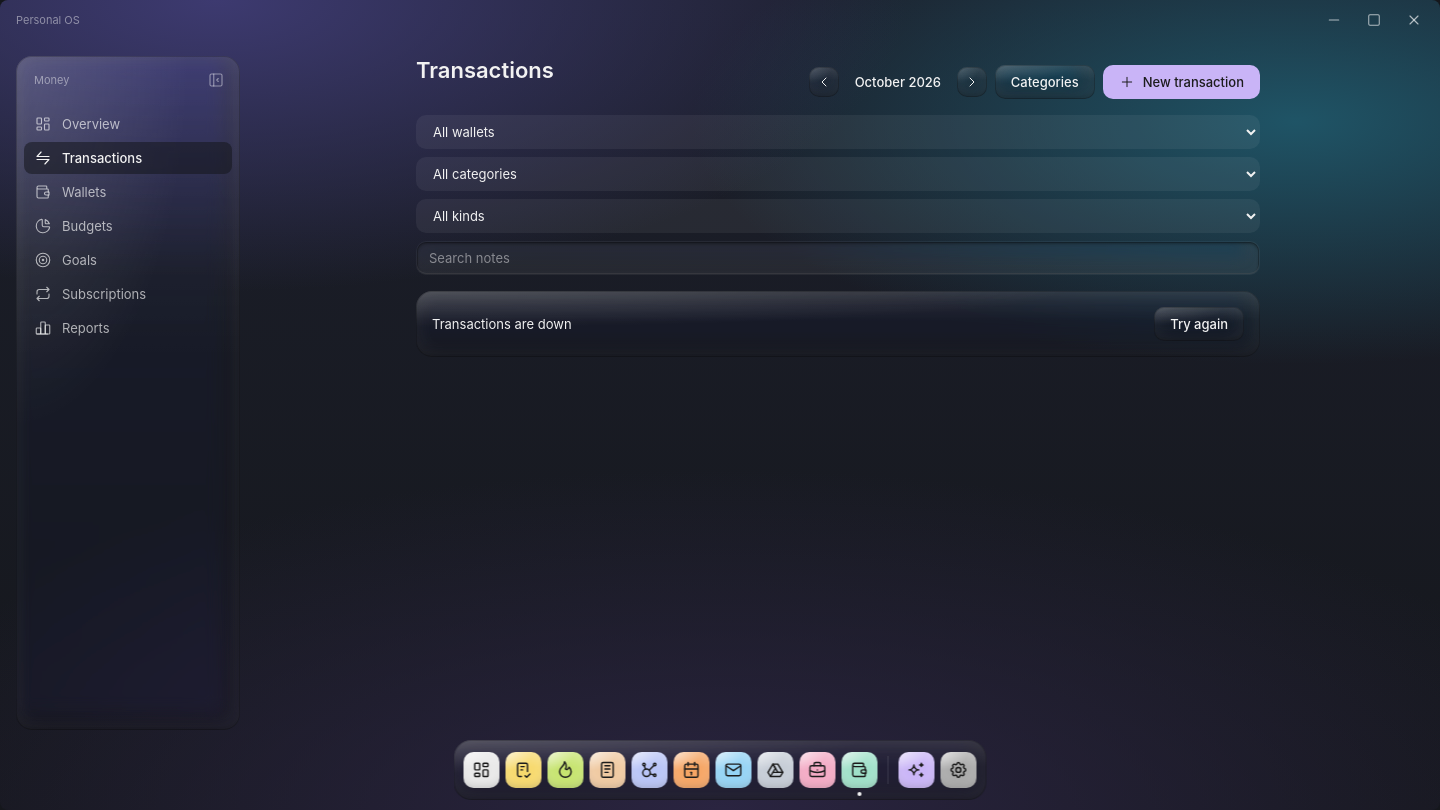
Test: Transactions list › shows the error with Try again
This screenshot has width=1440, height=810.
Expected: the message shows "Transactions are down", [432, 316, 572, 332]
Click the button "Try again".
click(1199, 324)  # box [1154, 307, 1244, 341]
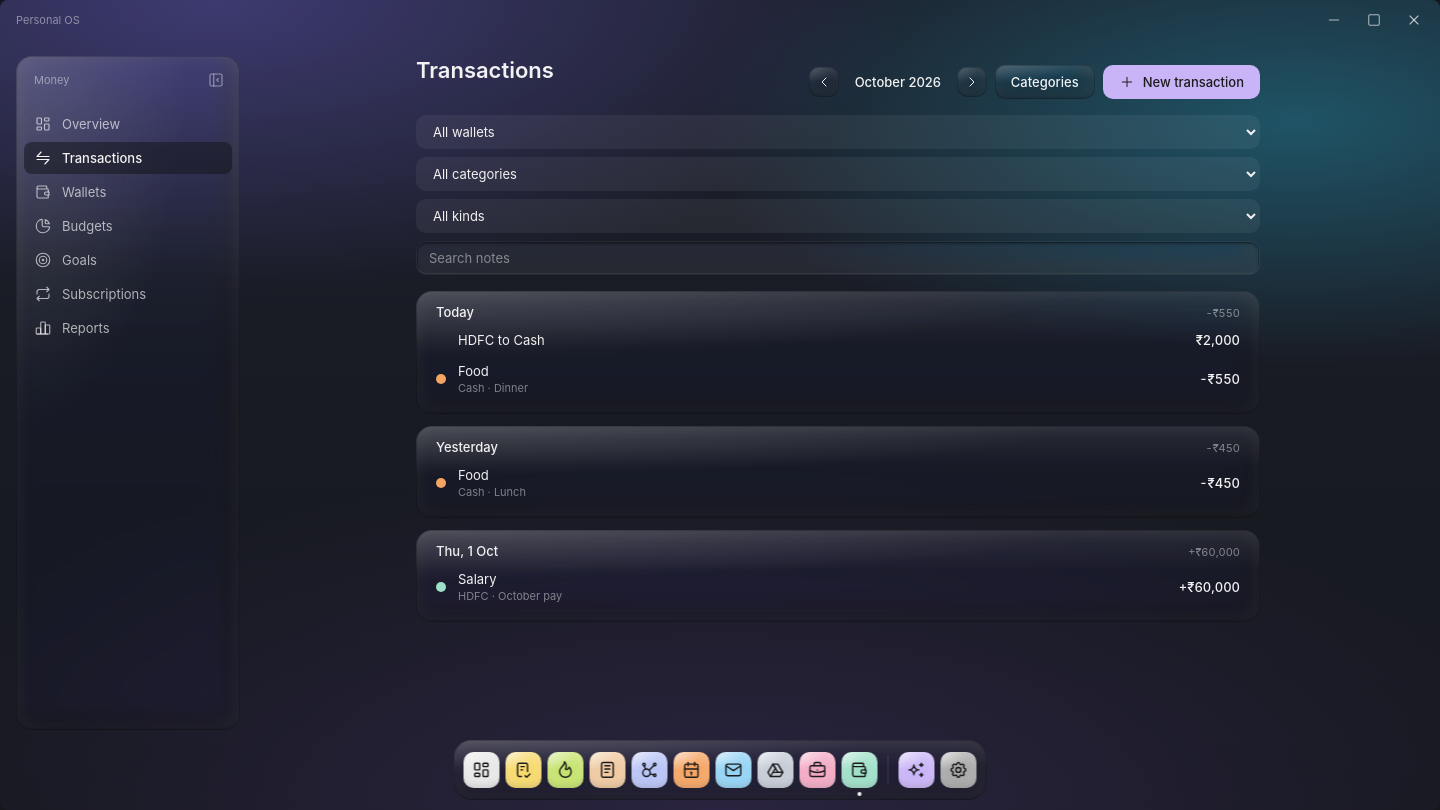
Now the element "Today" is shown, box [416, 291, 1260, 414]
